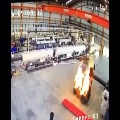fire: (74, 56, 94, 97)
